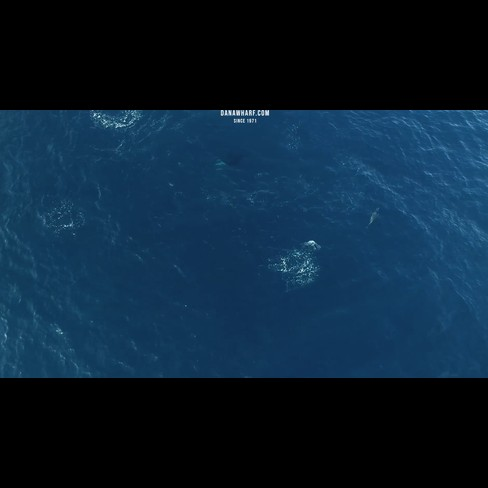orca: (209, 146, 253, 190)
